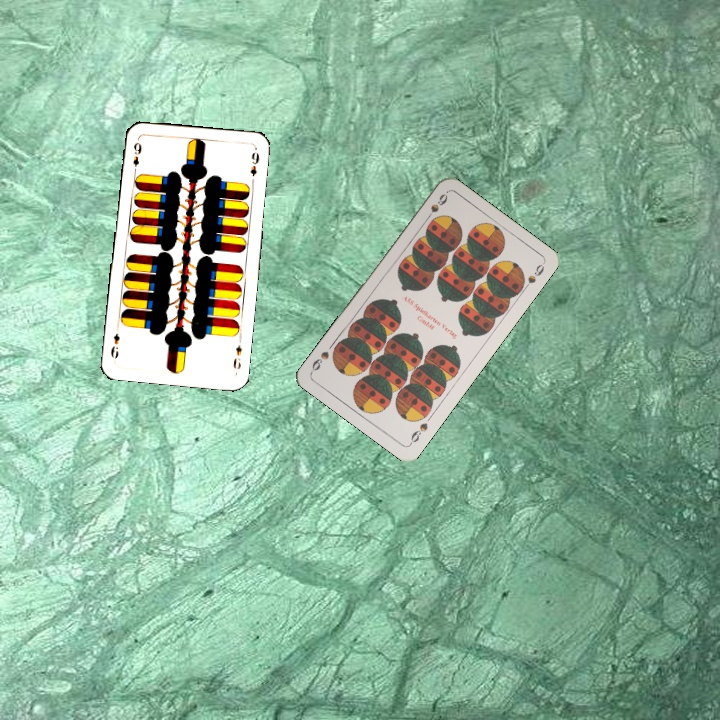E9: (229, 334, 245, 371), (129, 138, 144, 176)
S9: (421, 189, 450, 224), (406, 419, 431, 448)
